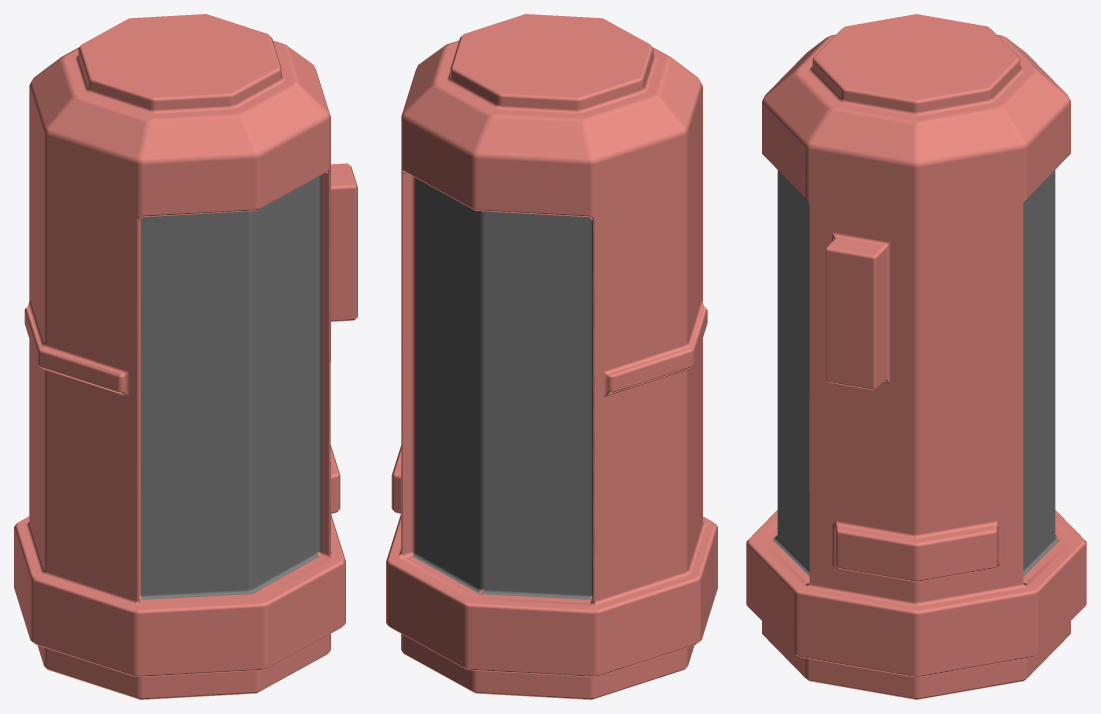
File: Canister.fbx
The picture shows the model from 3 angles, left to right: view 1: azimuth 30°, elevation 25°; view 2: azimuth 150°, elevation 25°; view 3: azimuth 270°, elevation 25°; orthographic projection.
Parts seen in each view (by area): view 1: Canister; view 2: Canister; view 3: Canister.
Part boxes in pixels (box(x1,y1,x2,y2)): Canister: box(14, 14, 357, 699); Canister: box(386, 14, 717, 699); Canister: box(746, 14, 1086, 699).
Bounding box in the file's own units: 110 × 205 × 109.
